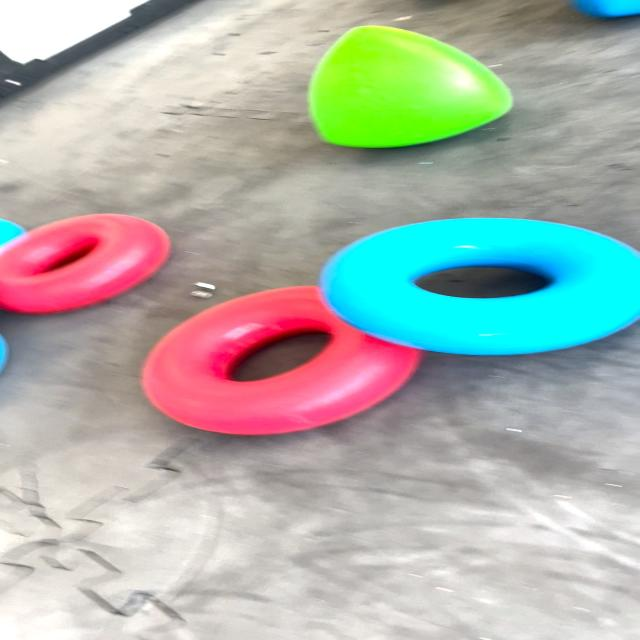Blue-Ring: (320, 219, 640, 355)
Red-Ring: (142, 286, 422, 435), (0, 214, 171, 314)
